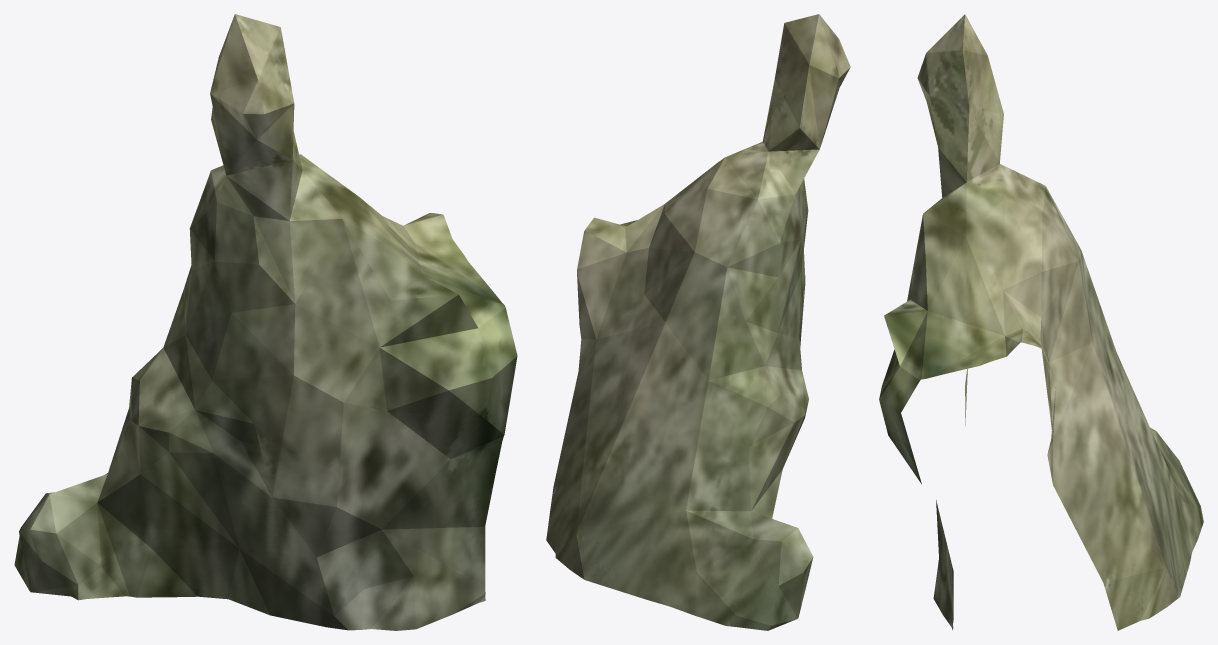
The picture shows the model from 3 angles, left to right: view 1: azimuth 30°, elevation 25°; view 2: azimuth 150°, elevation 25°; view 3: azimuth 270°, elevation 25°; orthographic projection. The views are drawn at different scales.
Size of the model in its own units: 1.27 by 2.28 by 1.29.
2 materials, 2 textured.
